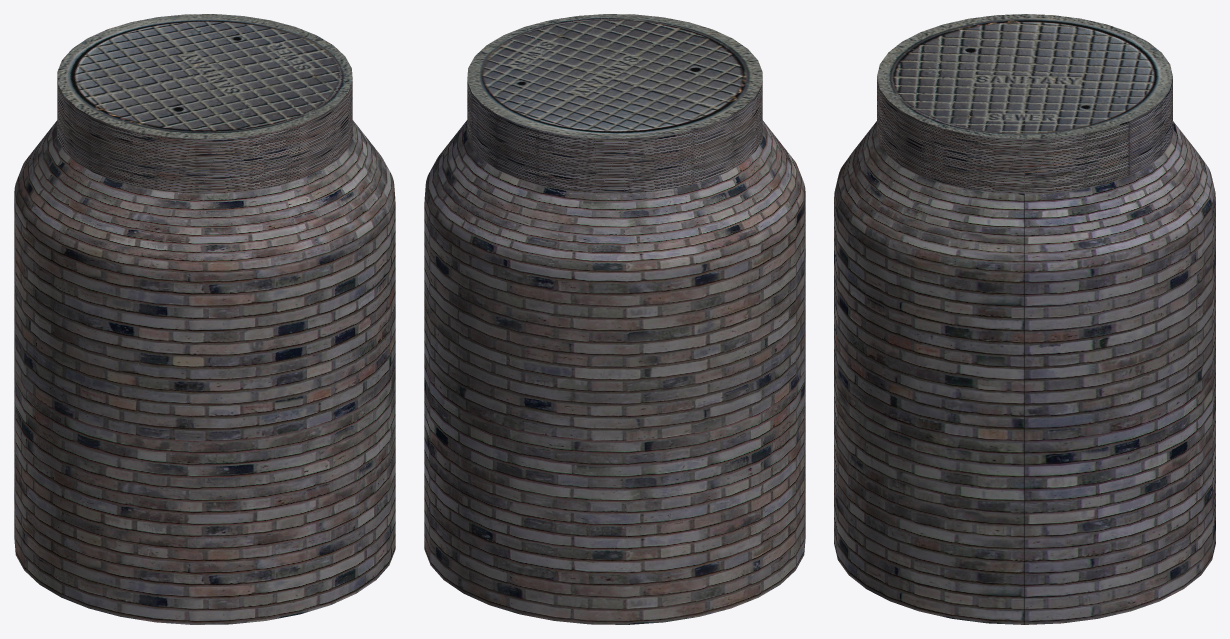
The model's file is jing.gltf.
The picture shows the model from 3 angles, left to right: view 1: azimuth 30°, elevation 25°; view 2: azimuth 150°, elevation 25°; view 3: azimuth 270°, elevation 25°; orthographic projection.
Visible parts, largest first — view 1: 圆柱体, 圆柱体-材质.1, 圆柱体-材质; view 2: 圆柱体, 圆柱体-材质.1, 圆柱体-材质; view 3: 圆柱体, 圆柱体-材质.1, 圆柱体-材质.
Part boxes in pixels (box(x1,y1,x2,y2)): 圆柱体: box(14, 120, 395, 624); 圆柱体-材质.1: box(57, 14, 352, 138); 圆柱体-材质: box(57, 76, 352, 193); 圆柱体: box(424, 120, 805, 624); 圆柱体-材质.1: box(467, 14, 762, 138); 圆柱体-材质: box(467, 76, 762, 193); 圆柱体: box(834, 121, 1215, 624); 圆柱体-材质.1: box(877, 14, 1172, 138); 圆柱体-材质: box(877, 77, 1172, 193).
Size of the model in its own units: 0.7024 by 0.9499 by 0.7024.
Materials: 2 (2 with a texture image).
